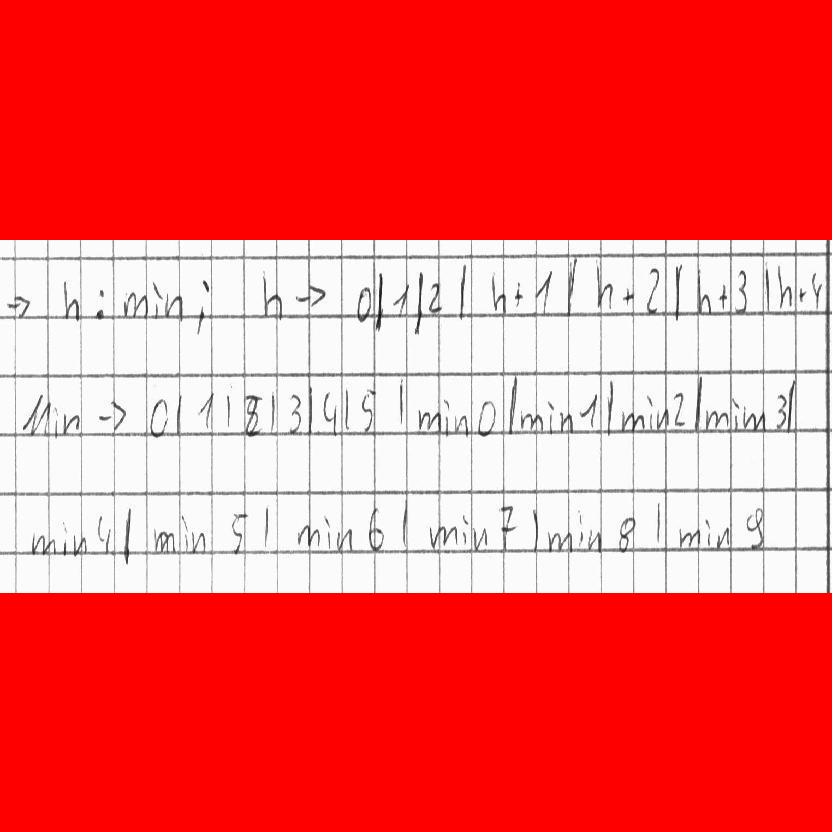Char: (31, 520, 87, 558), (260, 265, 287, 322), (190, 276, 213, 337), (20, 393, 51, 438), (743, 504, 769, 553), (495, 500, 519, 553), (593, 257, 616, 311), (119, 500, 135, 568), (62, 277, 85, 324), (97, 399, 129, 432), (228, 511, 252, 554), (295, 281, 330, 310), (489, 270, 511, 315), (243, 392, 265, 437), (353, 283, 375, 327), (733, 268, 753, 316), (532, 269, 552, 316), (643, 264, 661, 316), (457, 259, 471, 325), (477, 398, 499, 440), (367, 507, 387, 553), (412, 269, 425, 338), (94, 512, 115, 554), (359, 386, 377, 433), (427, 521, 457, 549), (123, 290, 150, 321), (776, 264, 794, 310), (671, 260, 684, 323), (506, 373, 519, 436), (578, 391, 599, 430), (149, 399, 171, 436), (152, 524, 178, 555), (391, 281, 411, 321), (5, 292, 32, 321), (528, 504, 543, 556), (565, 254, 577, 317), (696, 269, 712, 316), (691, 375, 704, 432), (617, 515, 637, 552), (399, 497, 414, 546), (375, 268, 386, 334), (546, 528, 575, 553), (604, 379, 616, 439), (785, 378, 798, 433), (322, 391, 338, 435), (196, 391, 214, 430), (741, 404, 766, 432), (288, 392, 304, 435), (424, 279, 443, 315), (186, 527, 208, 558), (619, 408, 645, 434), (295, 522, 321, 548), (520, 407, 544, 435), (261, 503, 275, 551), (162, 291, 184, 321), (417, 408, 441, 435), (772, 392, 788, 432), (809, 270, 824, 312), (341, 386, 355, 431), (763, 257, 773, 319), (178, 509, 191, 556), (704, 408, 729, 432), (676, 524, 701, 548), (672, 390, 688, 427), (150, 280, 164, 321), (94, 286, 109, 324), (396, 376, 407, 427), (62, 410, 82, 437), (460, 523, 478, 552), (714, 524, 734, 550), (268, 389, 279, 436), (645, 392, 657, 435), (574, 509, 586, 551), (586, 526, 604, 554), (654, 500, 665, 544), (334, 528, 353, 553), (442, 397, 453, 440), (174, 394, 184, 439), (306, 383, 314, 437), (453, 413, 471, 437), (650, 405, 666, 432), (546, 398, 556, 438), (559, 409, 575, 434), (321, 513, 332, 549), (512, 278, 525, 308), (731, 396, 741, 434), (460, 511, 470, 548), (703, 516, 714, 549), (716, 283, 729, 310), (224, 392, 233, 431), (52, 404, 60, 441), (621, 285, 636, 304), (796, 285, 808, 305)
